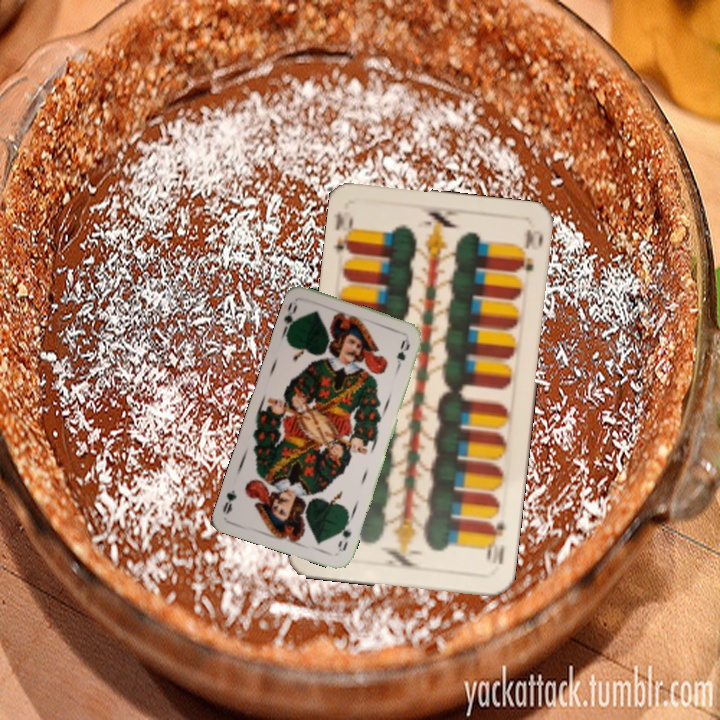E10: (330, 209, 359, 263), (482, 515, 507, 567)
GO: (278, 298, 301, 339), (334, 515, 354, 554)
